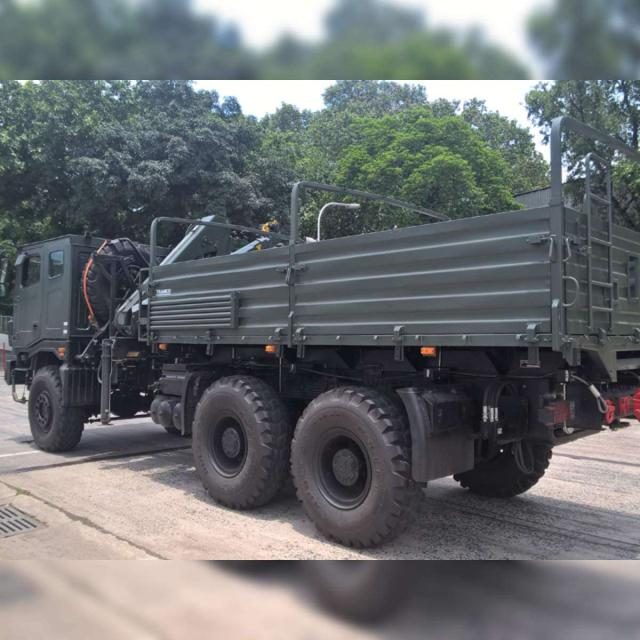truck: (6, 118, 640, 548)
